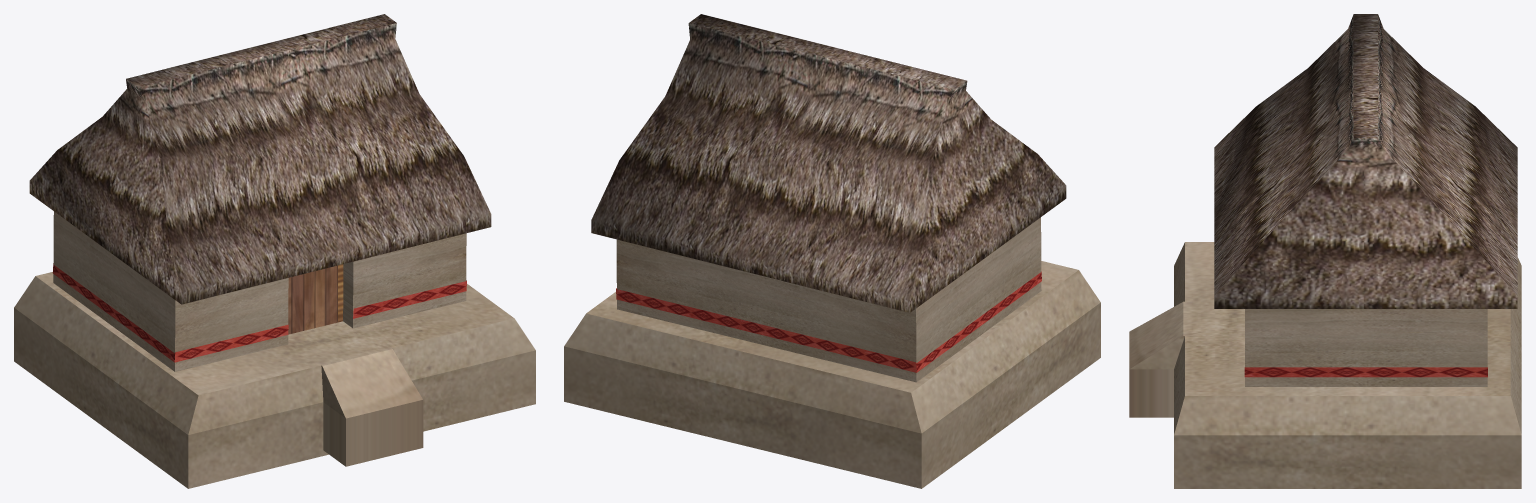
The model's file is tara_house_3.dae.
3 renders of one model, left to right at view 1: azimuth 30°, elevation 25°; view 2: azimuth 150°, elevation 25°; view 3: azimuth 270°, elevation 25°, orthographic. The views are drawn at different scales.
Visible parts, largest first — view 1: house03; view 2: house03; view 3: house03.
Boxes of the visible parts, <box> form: house03: <box>14,14,535,488</box>; house03: <box>564,14,1100,488</box>; house03: <box>1129,14,1521,488</box>.
Size of the model in its own units: 14.65 by 14.35 by 13.18.
